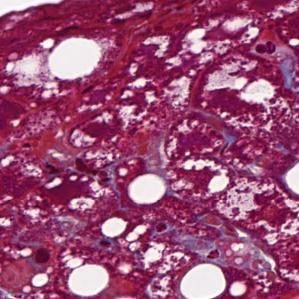steatosis: (46, 32, 100, 82), (179, 259, 228, 299), (126, 168, 168, 213), (66, 258, 112, 296)
